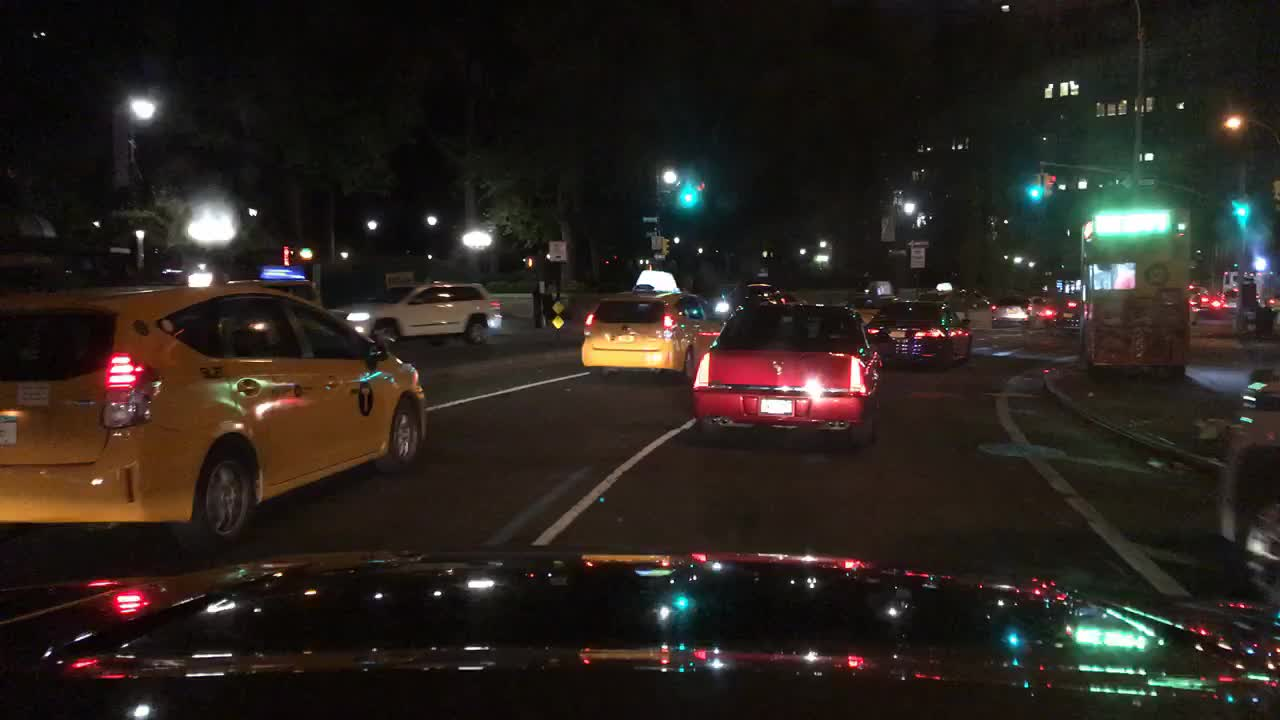car: (1, 282, 426, 556), (690, 301, 882, 447), (580, 270, 721, 382), (1219, 369, 1279, 581), (352, 282, 500, 345), (866, 299, 973, 371), (225, 280, 318, 307), (847, 280, 901, 323), (740, 282, 803, 307), (990, 294, 1033, 328), (944, 289, 990, 310), (1030, 294, 1059, 323), (1057, 296, 1082, 329), (1191, 290, 1220, 313)
traffic light: (681, 180, 694, 206), (1030, 172, 1041, 201), (693, 178, 704, 207), (1043, 173, 1055, 198), (1236, 199, 1248, 223)
traffic sign: (1119, 175, 1157, 188), (547, 240, 565, 262), (881, 215, 895, 242), (910, 247, 925, 268), (551, 314, 565, 328), (552, 302, 564, 313), (907, 240, 928, 246), (652, 237, 662, 249), (642, 215, 655, 223), (653, 254, 663, 259)
truck: (1078, 206, 1192, 383), (1223, 269, 1261, 295)
